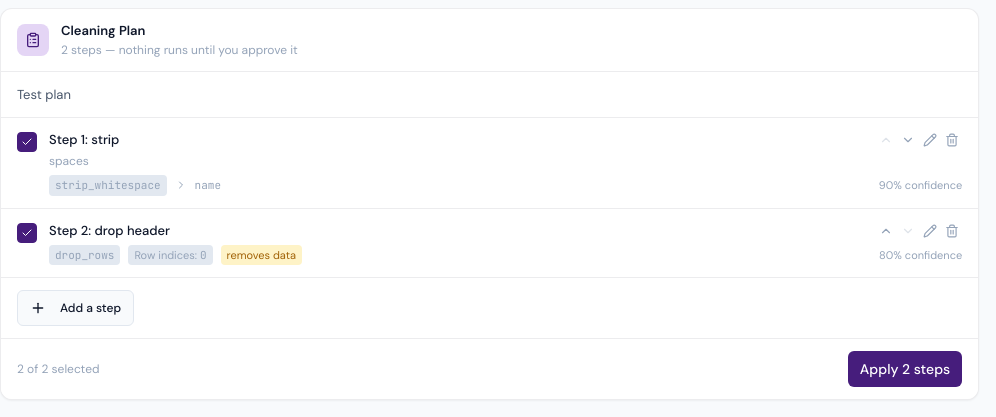
it: CleaningPlanCard — reviewing › disables Apply when no steps are selected
Expected: the button "Add a step" is enabled, x1=17 y1=290 x2=134 y2=326
What coordinates should you click on to do the following:
click the button named "this step" next to "Step 1: strip"
I would click on:
 (27, 142)
Its box is x1=17 y1=132 x2=37 y2=152.
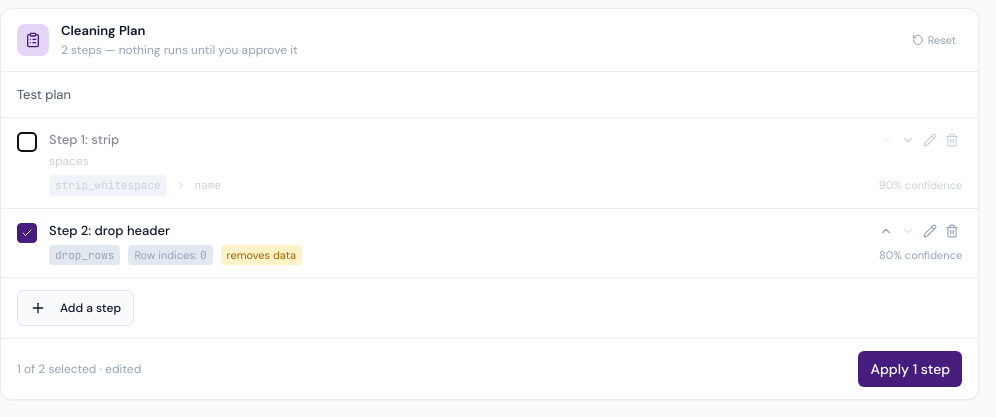
What coordinates should you click on to do the following:
click the button named "this step"
I would click on:
 (27, 233)
Its box is x1=17 y1=223 x2=37 y2=243.
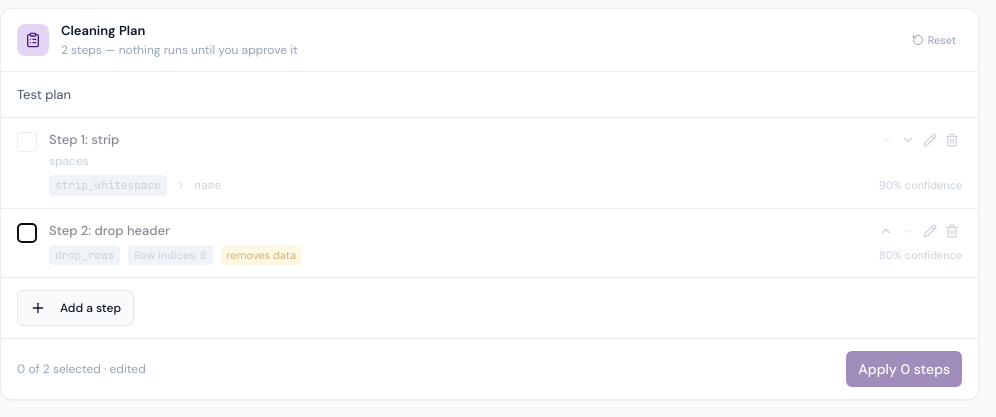
Now the button "Apply 0 steps" is disabled, box x1=846 y1=351 x2=962 y2=387
